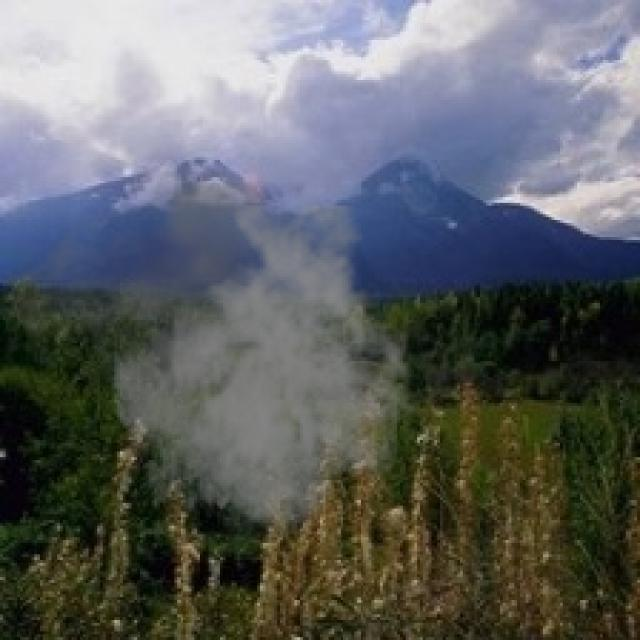smoke: (3, 157, 420, 554)
